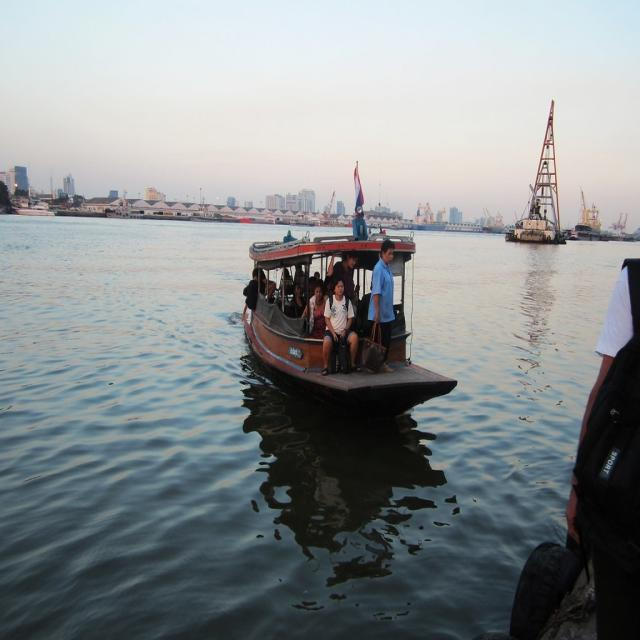boat: (241, 232, 460, 416)
